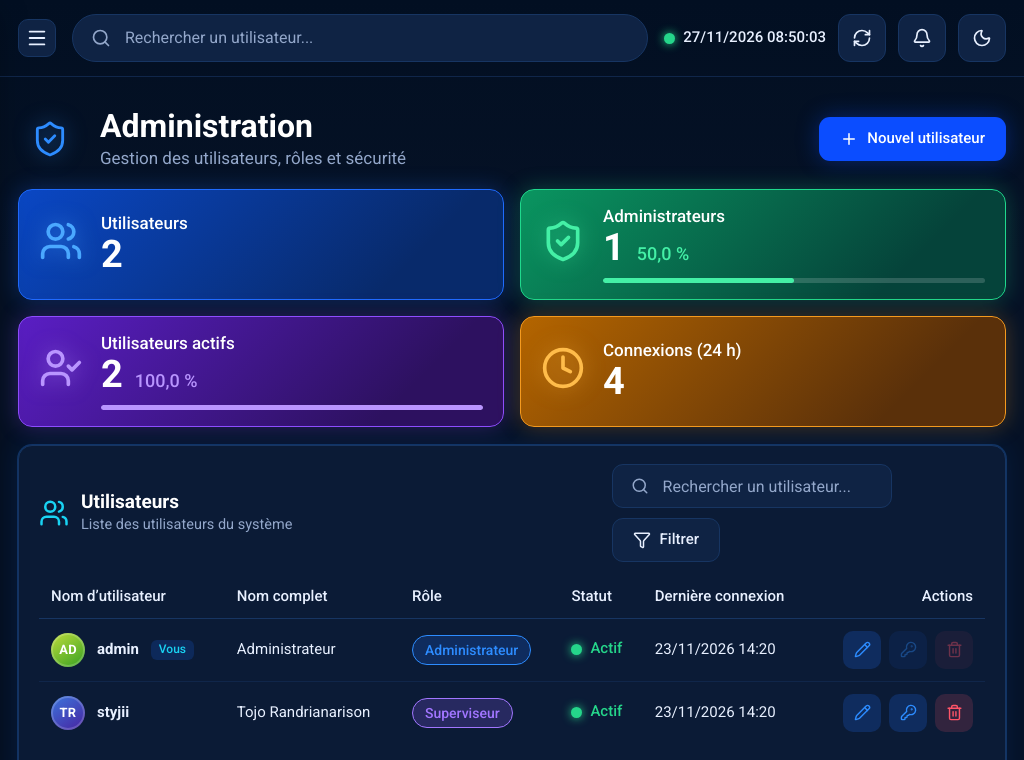
Test: administration des utilisateurs › valide le nom d’utilisateur côté client puis affiche les erreurs du serveur sous le champ
This screenshot has width=1024, height=760.
Click the button "Nouvel utilisateur".
click(913, 139)  # box x1=819 y1=117 x2=1006 y2=161
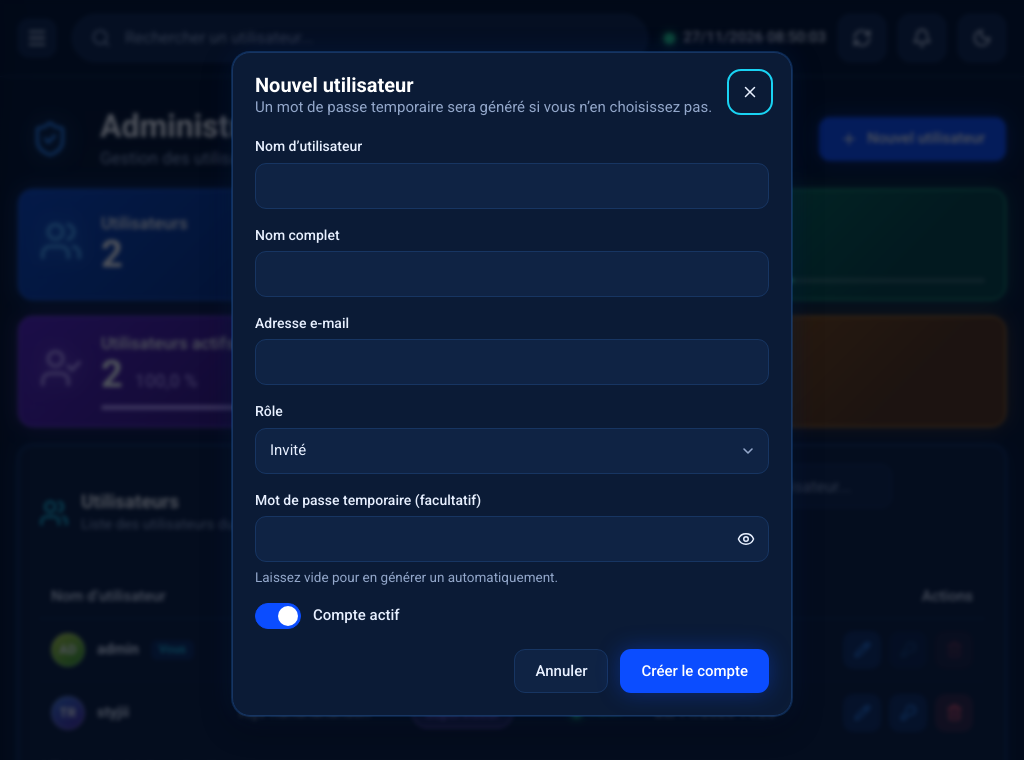
Type "a b" into the field labelled "Nom d’utilisateur".
click(512, 186); type("a b")  # box x1=255 y1=163 x2=769 y2=209
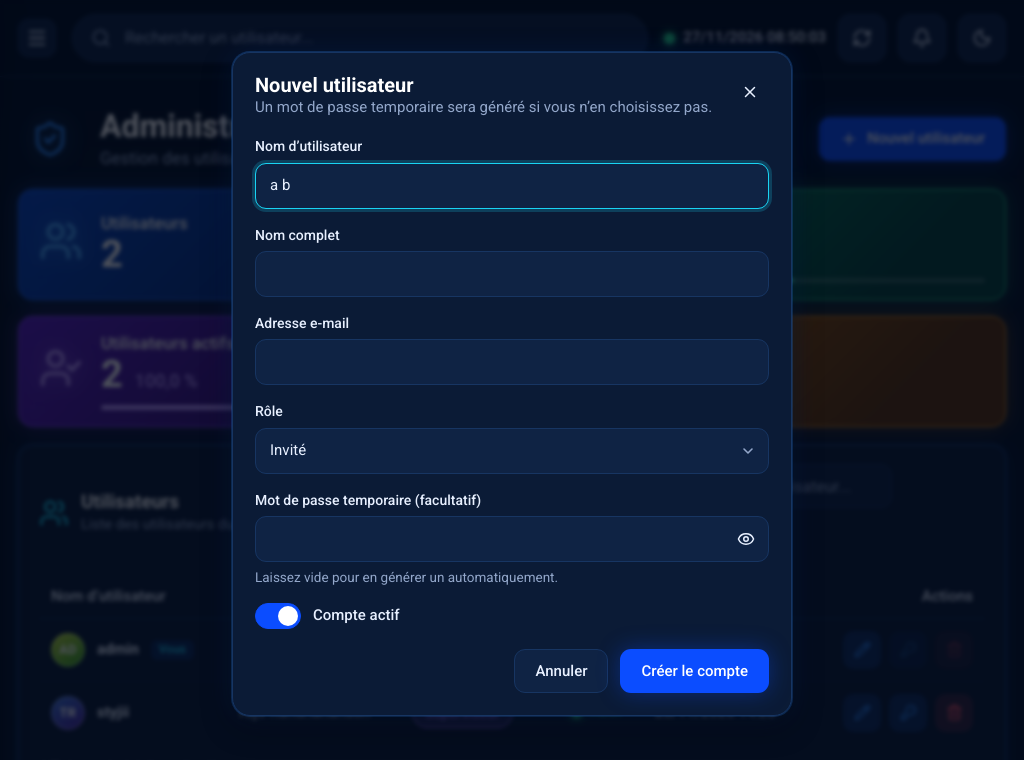
Click the button "Créer le compte".
click(695, 671)  # box x1=620 y1=649 x2=769 y2=693
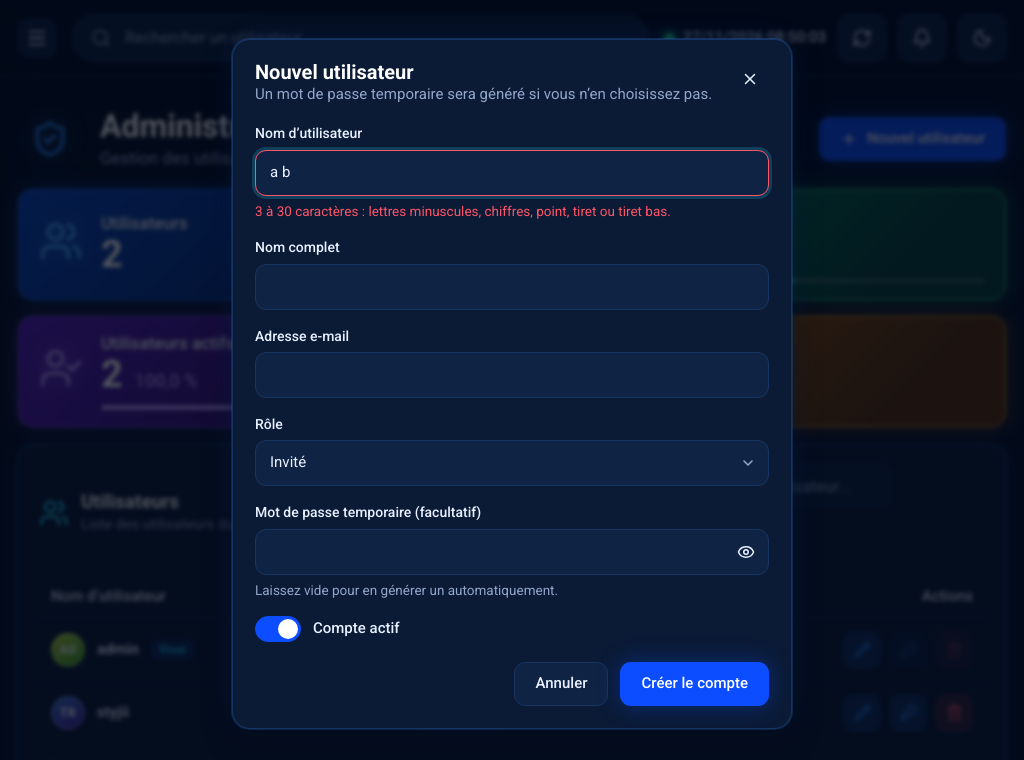
expect the text "3 à 30 caractères : lettres minuscules, chiffres, point, tiret ou tiret bas." is shown: met, box x1=255 y1=203 x2=671 y2=219
Replace the text in the field labelled "Nom d’utilisateur" with "styjii" at {"x": 512, "y": 173}, box x1=255 y1=150 x2=769 y2=196
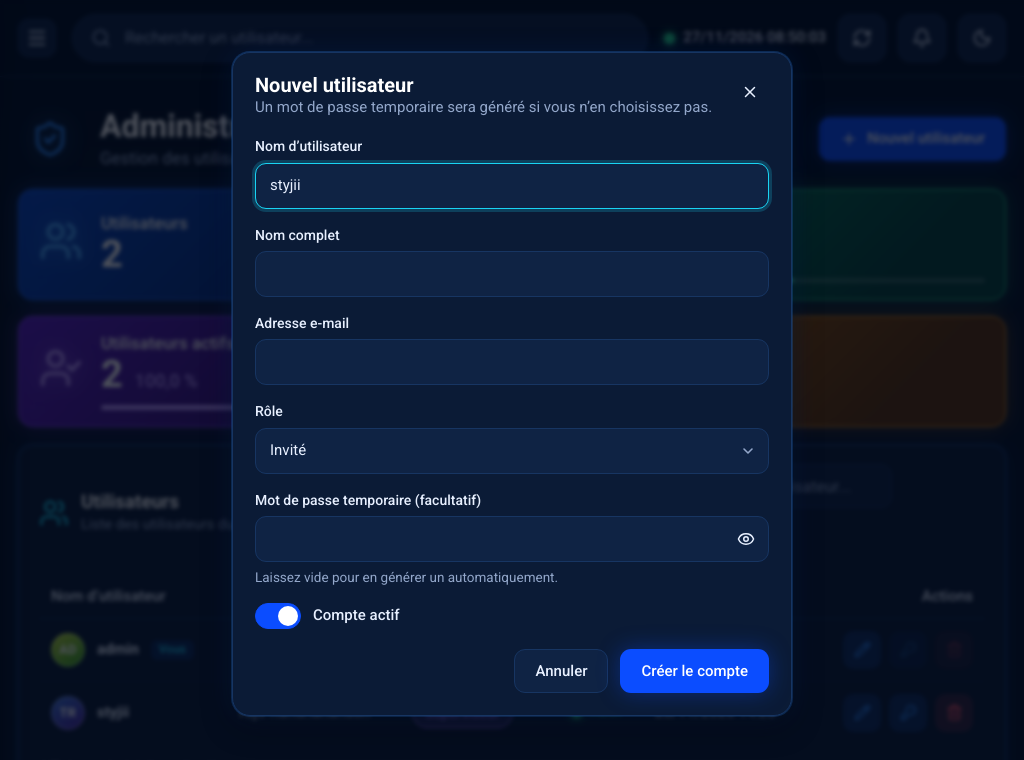
Click the button "Créer le compte".
click(695, 671)  # box x1=620 y1=649 x2=769 y2=693
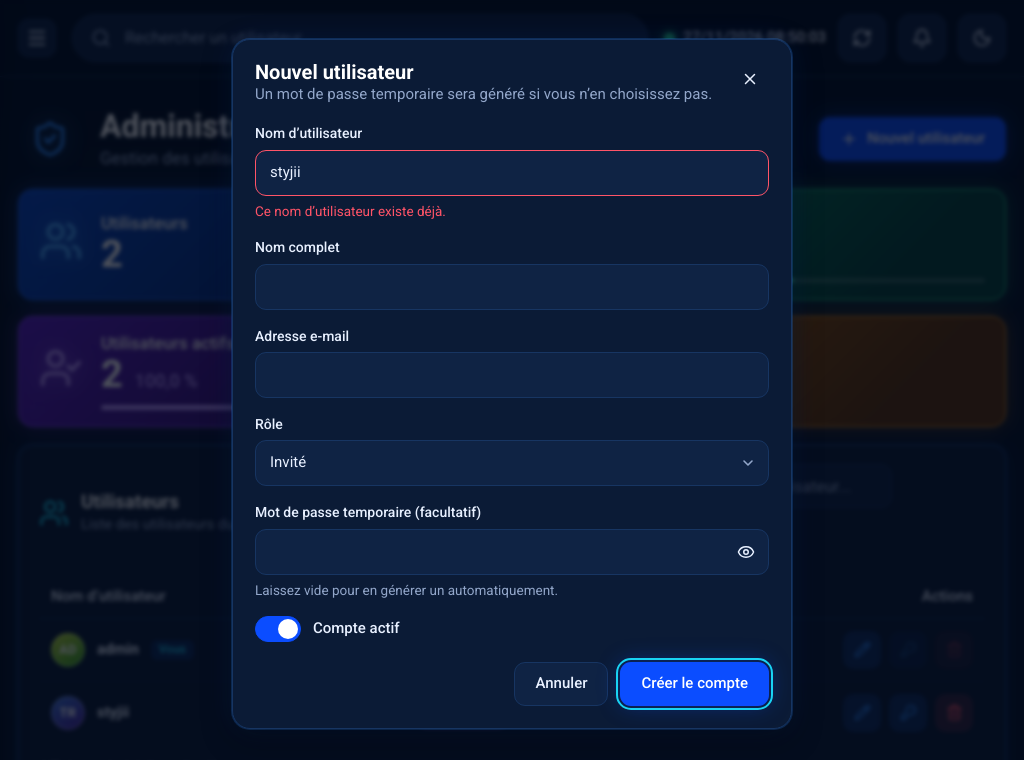
expect the text "Ce nom d’utilisateur existe déjà." is shown: met, box x1=255 y1=203 x2=446 y2=219
